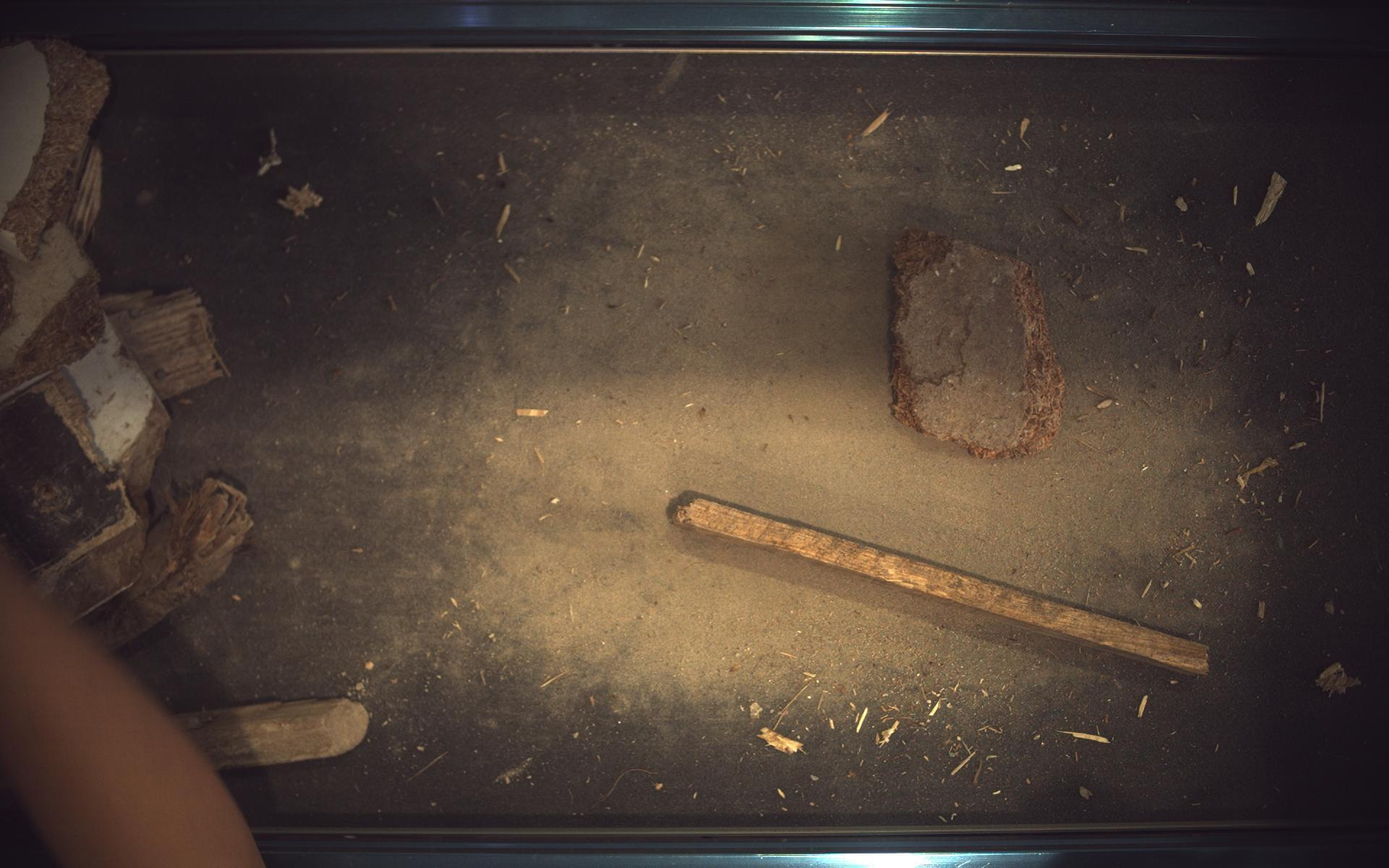wood: (669, 491, 1212, 676)
